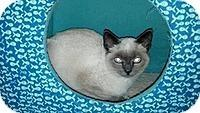siamese: (100, 26, 156, 83)
